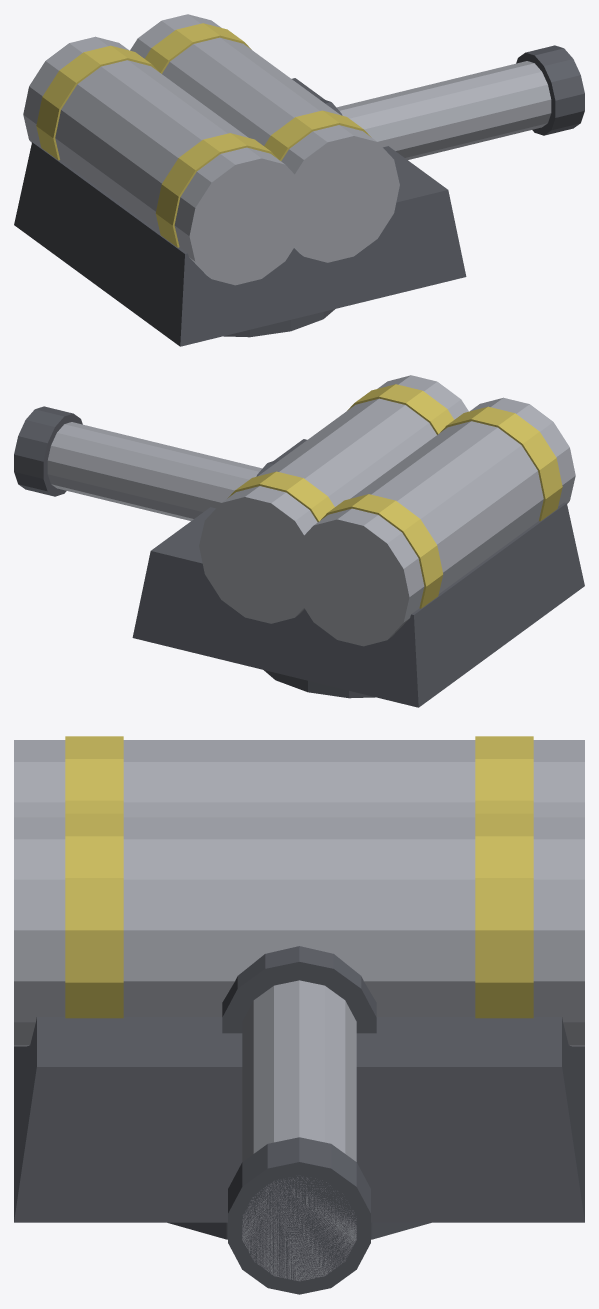
The model's file is vge_compact_autocannon_player.obj.
The picture shows the model from 3 angles, top to bottom: view 1: azimuth 30°, elevation 25°; view 2: azimuth 150°, elevation 25°; view 3: azimuth 270°, elevation 25°; orthographic projection. The views are drawn at different scales.
Parts seen in each view (by area): view 1: vge_compact_autocannon_player_1, vge_compact_autocannon_player_2, vge_compact_autocannon_player_5, vge_compact_autocannon_player_8, vge_compact_autocannon_player_9, vge_compact_autocannon_player_3, vge_compact_autocannon_player_4, vge_compact_autocannon_player_7, vge_compact_autocannon_player_6, vge_compact_autocannon_player_0; view 2: vge_compact_autocannon_player_1, vge_compact_autocannon_player_2, vge_compact_autocannon_player_5, vge_compact_autocannon_player_8, vge_compact_autocannon_player_9, vge_compact_autocannon_player_4, vge_compact_autocannon_player_3, vge_compact_autocannon_player_6, vge_compact_autocannon_player_7, vge_compact_autocannon_player_0; view 3: vge_compact_autocannon_player_1, vge_compact_autocannon_player_5, vge_compact_autocannon_player_2, vge_compact_autocannon_player_8, vge_compact_autocannon_player_9, vge_compact_autocannon_player_6, vge_compact_autocannon_player_7, vge_compact_autocannon_player_10, vge_compact_autocannon_player_3, vge_compact_autocannon_player_4, vge_compact_autocannon_player_0.
Boxes of the visible parts, box(x1,y1,x2,y2) form: vge_compact_autocannon_player_1: box(14, 78, 466, 346); vge_compact_autocannon_player_2: box(23, 36, 307, 285); vge_compact_autocannon_player_5: box(130, 14, 399, 262); vge_compact_autocannon_player_8: box(336, 61, 551, 159); vge_compact_autocannon_player_9: box(516, 45, 584, 135); vge_compact_autocannon_player_3: box(155, 133, 278, 247); vge_compact_autocannon_player_4: box(36, 45, 158, 160); vge_compact_autocannon_player_7: box(144, 23, 251, 73); vge_compact_autocannon_player_6: box(264, 110, 371, 160); vge_compact_autocannon_player_0: box(223, 309, 334, 337); vge_compact_autocannon_player_1: box(132, 439, 584, 707); vge_compact_autocannon_player_2: box(291, 397, 575, 646); vge_compact_autocannon_player_5: box(199, 375, 468, 623); vge_compact_autocannon_player_8: box(47, 422, 262, 520); vge_compact_autocannon_player_9: box(14, 406, 82, 496); vge_compact_autocannon_player_4: box(320, 494, 443, 608); vge_compact_autocannon_player_3: box(440, 406, 562, 521); vge_compact_autocannon_player_6: box(347, 384, 454, 434); vge_compact_autocannon_player_7: box(227, 471, 334, 521); vge_compact_autocannon_player_0: box(264, 670, 375, 698); vge_compact_autocannon_player_1: box(14, 1017, 584, 1222); vge_compact_autocannon_player_5: box(14, 817, 584, 1046); vge_compact_autocannon_player_2: box(14, 740, 584, 817); vge_compact_autocannon_player_8: box(242, 980, 356, 1281); vge_compact_autocannon_player_9: box(228, 1137, 370, 1294); vge_compact_autocannon_player_6: box(65, 813, 123, 1018); vge_compact_autocannon_player_7: box(475, 813, 533, 1018); vge_compact_autocannon_player_10: box(222, 946, 376, 1033); vge_compact_autocannon_player_3: box(65, 736, 123, 813); vge_compact_autocannon_player_4: box(475, 736, 533, 813); vge_compact_autocannon_player_0: box(167, 1222, 431, 1239).
Bounding box in the file's own units: 1.26 × 0.5409 × 0.78.
